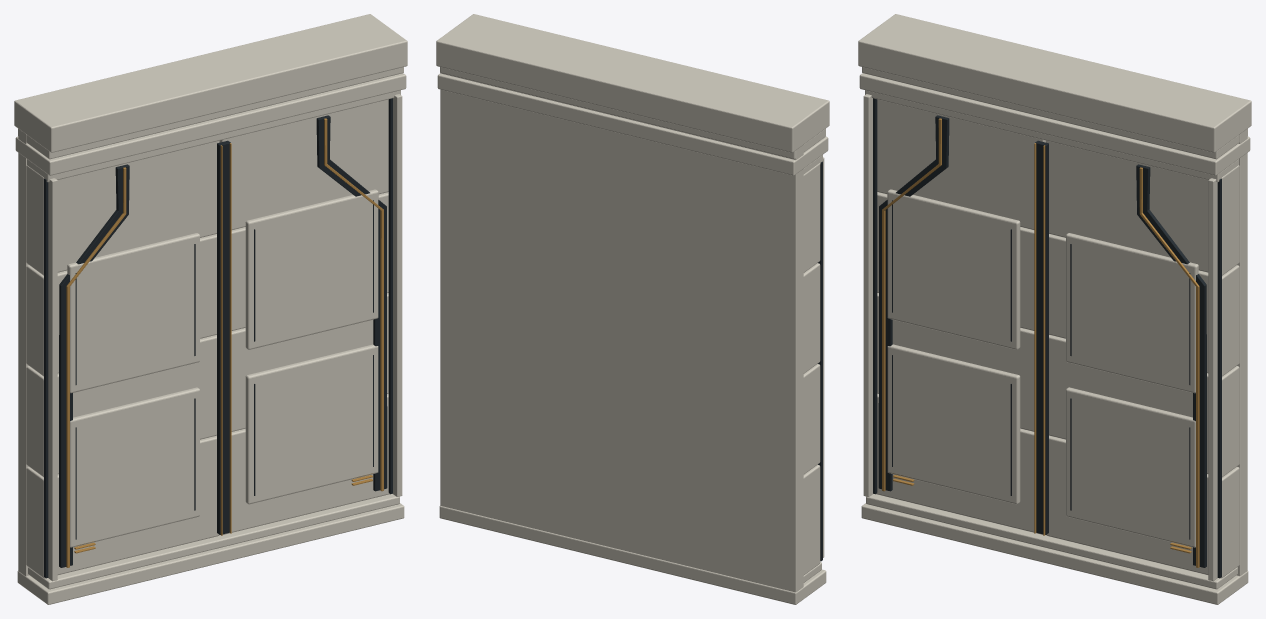
Rendered from SM_Aurelion_KIT_Z07WallEnd.fbx.
3 renders of one model, left to right at view 1: azimuth 30°, elevation 25°; view 2: azimuth 150°, elevation 25°; view 3: azimuth 330°, elevation 25°, orthographic.
Parts seen in each view (by area): view 1: SM_Aurelion_KIT_Z07WallEnd; view 2: SM_Aurelion_KIT_Z07WallEnd; view 3: SM_Aurelion_KIT_Z07WallEnd.
Boxes of the visible parts, bbox=[...] form: SM_Aurelion_KIT_Z07WallEnd: bbox=[14, 14, 407, 604]; SM_Aurelion_KIT_Z07WallEnd: bbox=[436, 14, 829, 604]; SM_Aurelion_KIT_Z07WallEnd: bbox=[858, 14, 1251, 604].
Size of the model in its own units: 467 by 85 by 600.
